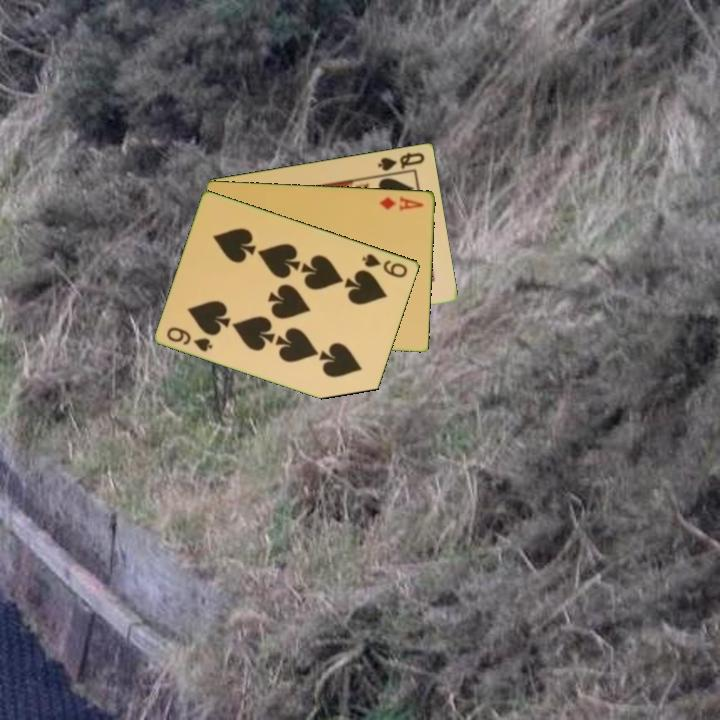9s: (163, 323, 216, 355), (359, 250, 411, 280)
Ad: (376, 193, 426, 213)
Qs: (375, 149, 428, 173)
